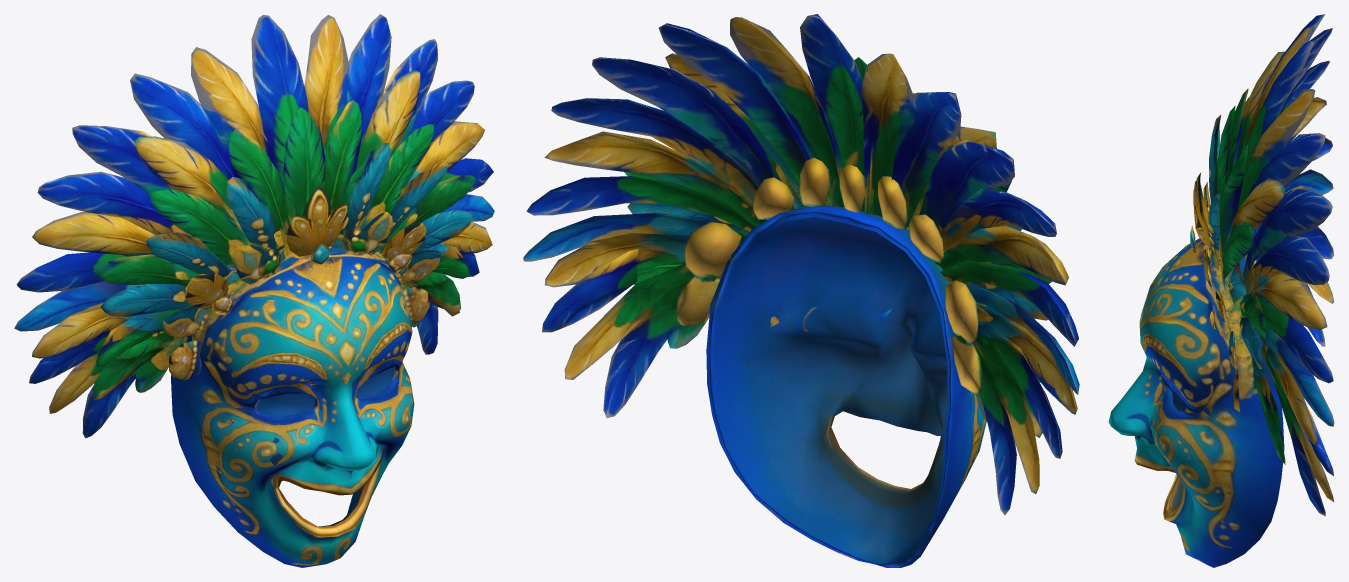
The model's file is masskara-blue.glb.
3 renders of one model, left to right at view 1: azimuth 30°, elevation 25°; view 2: azimuth 150°, elevation 25°; view 3: azimuth 270°, elevation 25°, orthographic. The views are drawn at different scales.
Parts seen in each view (by area): view 1: geometry_0; view 2: geometry_0; view 3: geometry_0.
Boxes of the visible parts, x1,y1,x2,y2 form: geometry_0: [14, 14, 494, 567]; geometry_0: [523, 14, 1079, 567]; geometry_0: [1108, 14, 1334, 567].
Bounding box in the file's own units: 0.9799 × 1 × 0.3957.
Materials: 1 (1 with a texture image).
